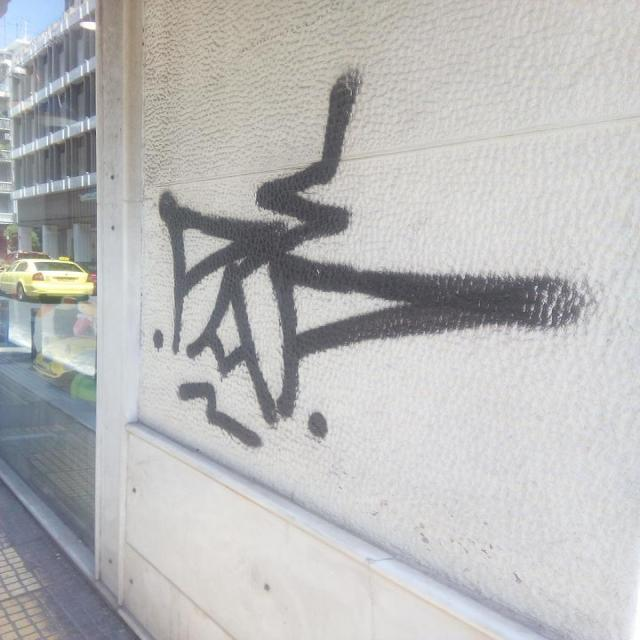nonspitting: (152, 69, 584, 451)
